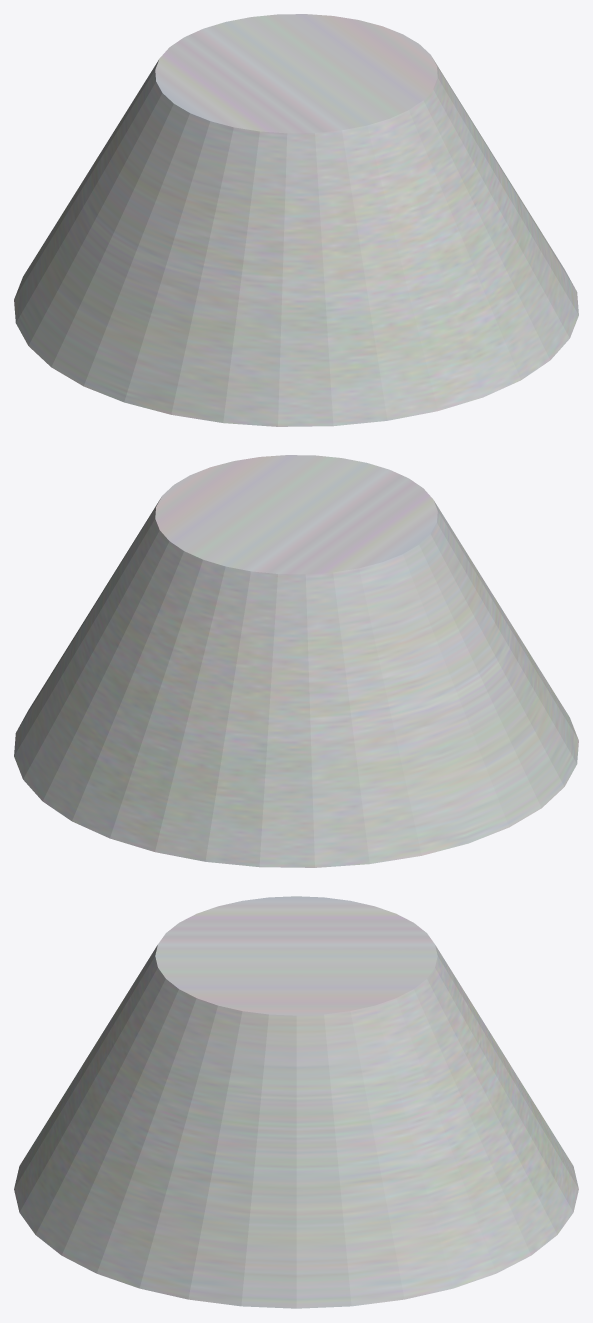
File: use_size_256.obj
3 views of the same model, one above another, from view 1: azimuth 30°, elevation 25°; view 2: azimuth 150°, elevation 25°; view 3: azimuth 270°, elevation 25° (orthographic).
Parts seen in each view (by area): view 1: use_size_256_Circle; view 2: use_size_256_Circle; view 3: use_size_256_Circle.
Part boxes in pixels (x1,y1,x2,y2): use_size_256_Circle: [14, 14, 578, 426]; use_size_256_Circle: [14, 455, 578, 867]; use_size_256_Circle: [14, 896, 578, 1308].
Bounding box in the file's own units: 32682 × 14894 × 32682.
